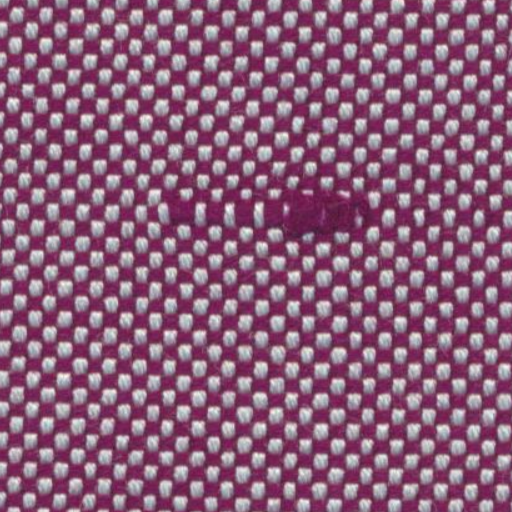DaiSha: (94, 178, 392, 242)
